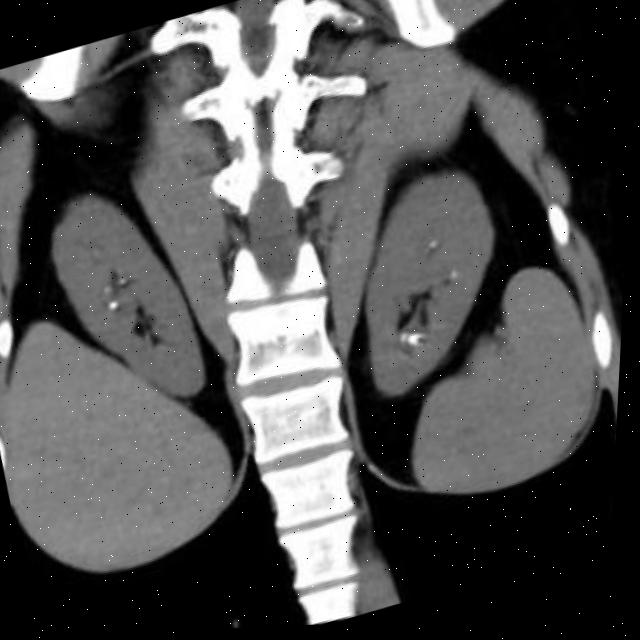Tas_Var: (408, 330, 428, 356), (105, 298, 124, 320), (424, 239, 442, 257), (398, 332, 413, 351), (99, 284, 117, 299), (447, 272, 461, 287), (117, 276, 131, 290)
